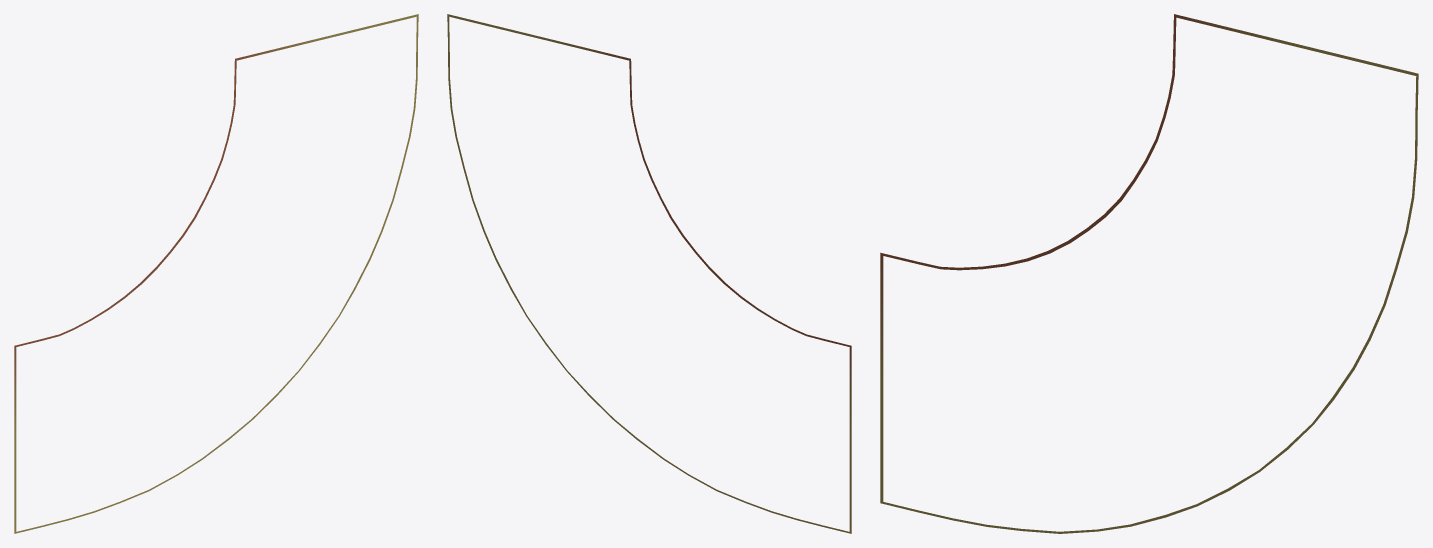
File: SM_000398_w40h012_grass_cutout.fbx
3 renders of one model, left to right at view 1: azimuth 30°, elevation 25°; view 2: azimuth 150°, elevation 25°; view 3: azimuth 330°, elevation 25°, orthographic. The views are drawn at different scales.
Parts seen in each view (by area): view 1: SM_000398.001; view 2: SM_000398.001; view 3: SM_000398.001.
Boxes of the visible parts, <box> form: SM_000398.001: <box>14,14,418,533</box>; SM_000398.001: <box>447,14,851,533</box>; SM_000398.001: <box>880,14,1418,533</box>.
Bounding box in the file's own units: 51.34 × 51.12 × 8.73e-10.
